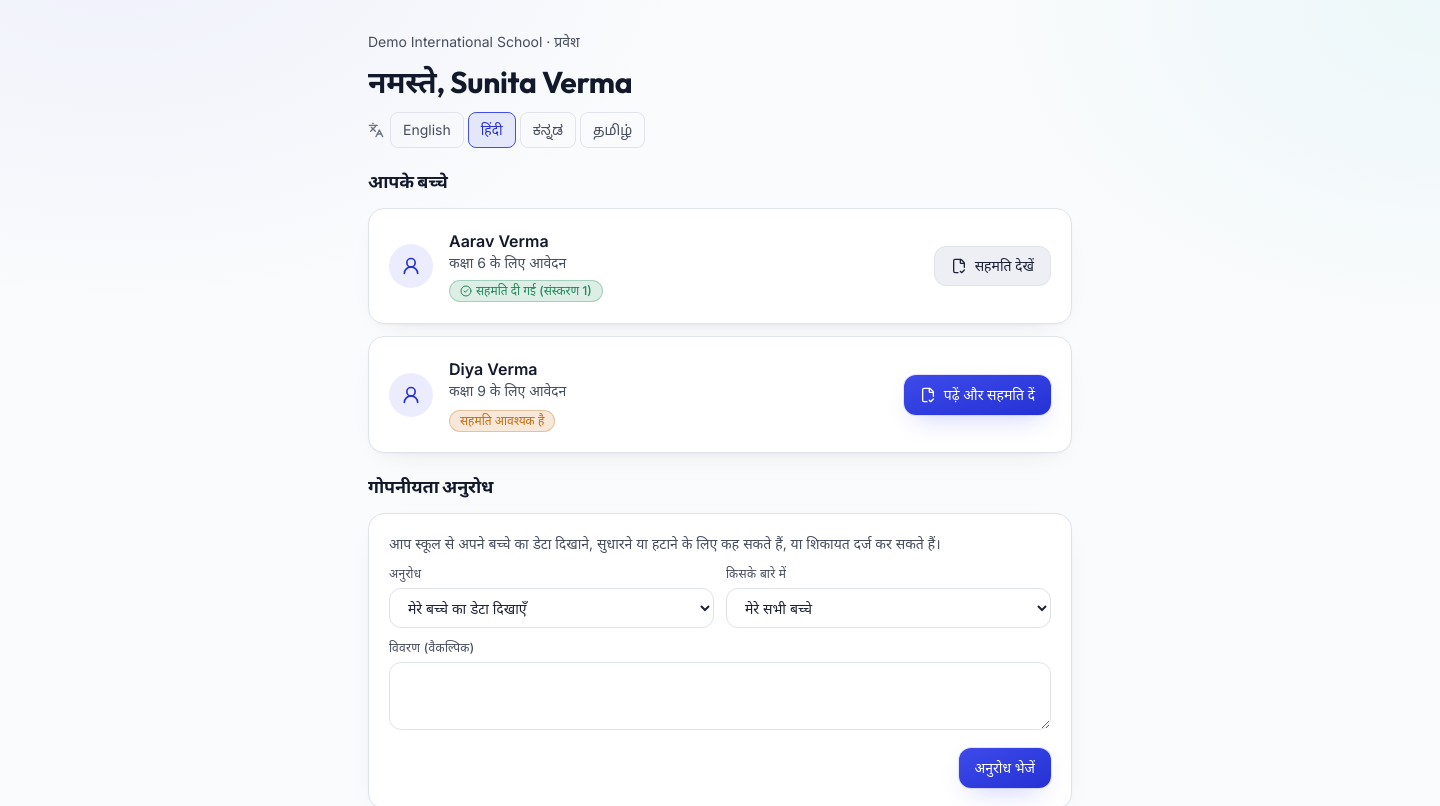
it: ParentPortal › records consent only after the parent ticks the confirmation
This screenshot has width=1440, height=806.
Click the button "पढ़ें और सहमति दें". click: coordinates (977, 394)
box: x1=904 y1=374 x2=1051 y2=414
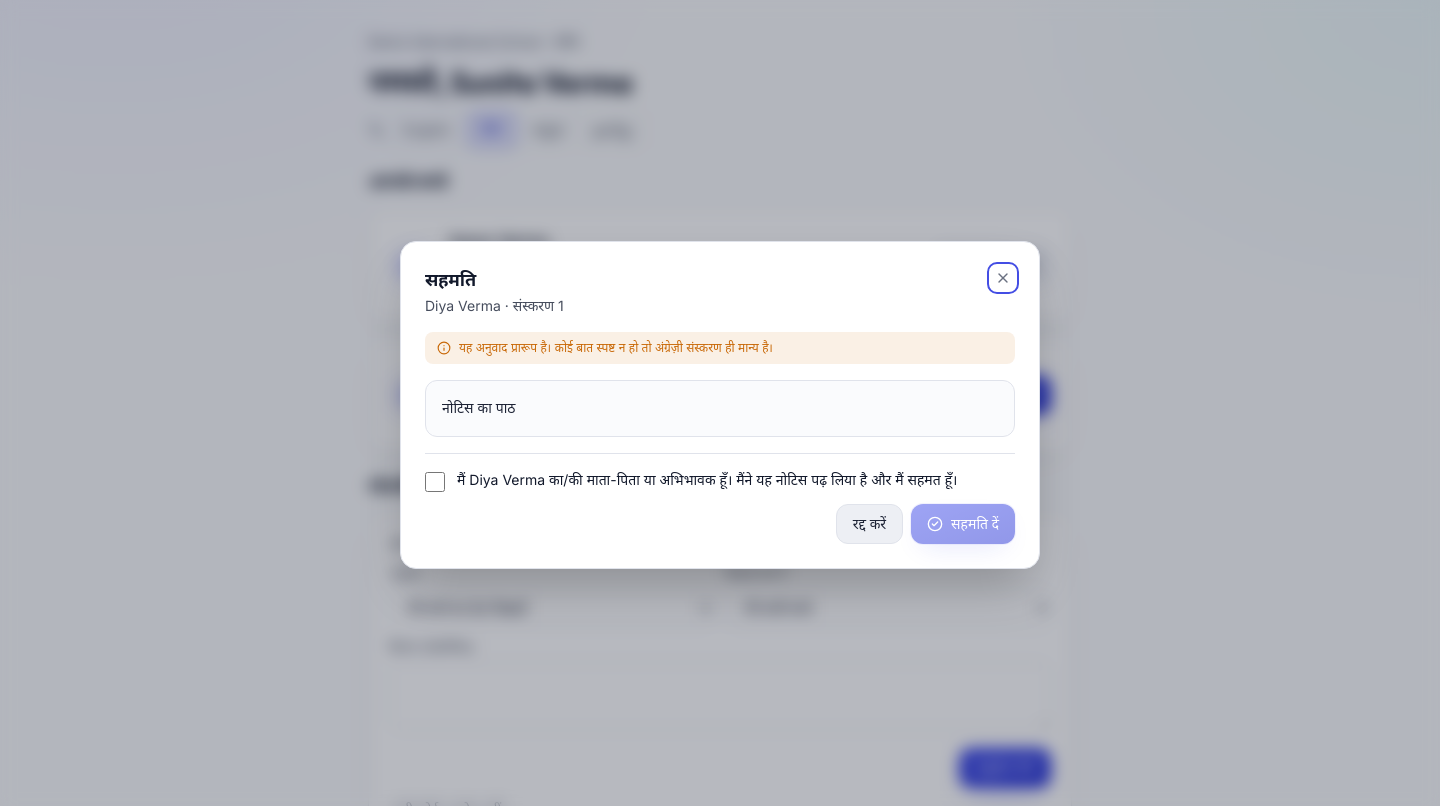
Expected: the text "नोटिस का पाठ" is shown, x1=425 y1=380 x2=1015 y2=437
Expected: the text "यह अनुवाद प्रारूप है" is shown, x1=459 y1=340 x2=773 y2=355
Expected: the button "सहमति दें" is disabled, x1=911 y1=504 x2=1015 y2=544
Click the checkbox. click: coordinates (435, 482)
box: x1=425 y1=472 x2=445 y2=492
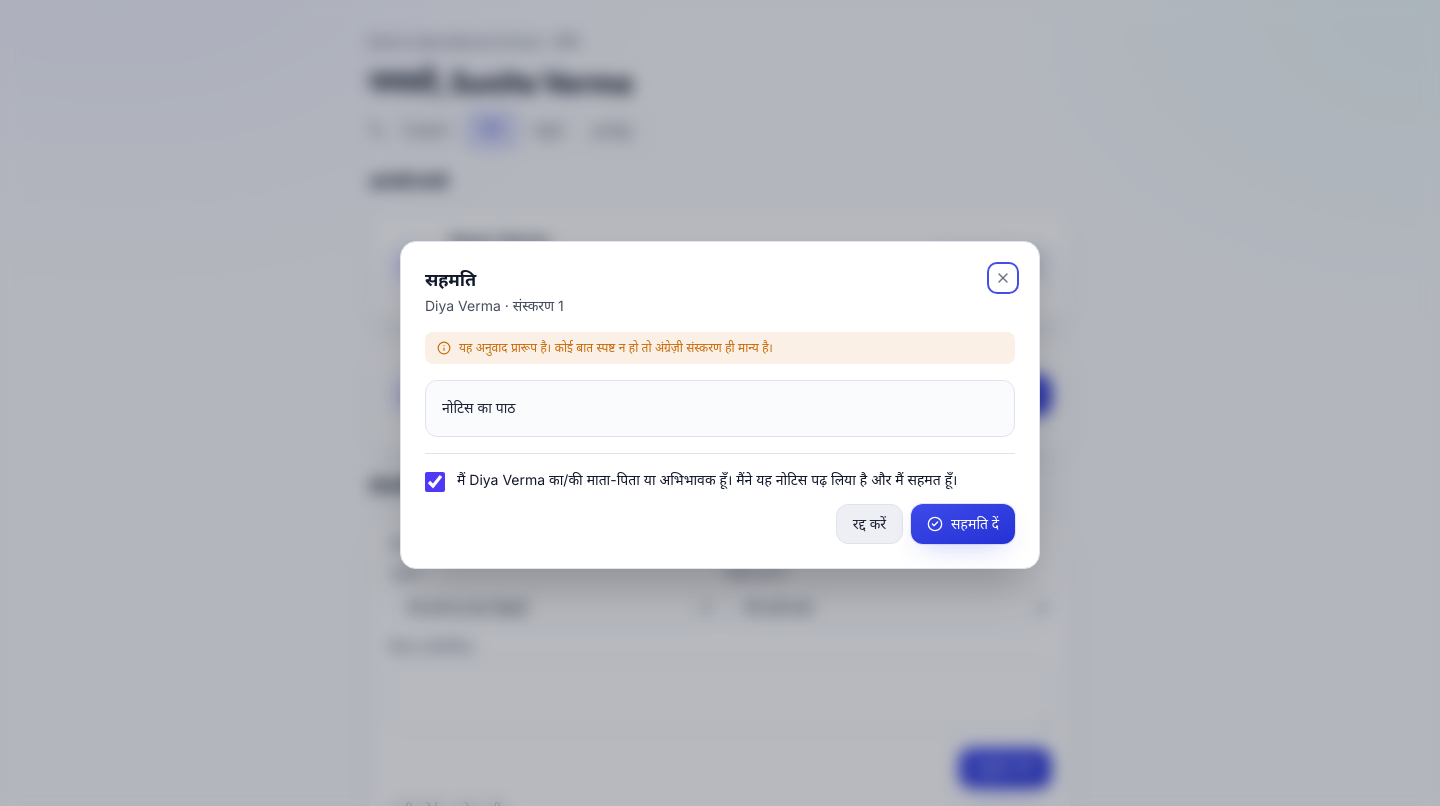
Click the button "सहमति दें". click: coordinates (963, 524)
box: x1=911 y1=504 x2=1015 y2=544
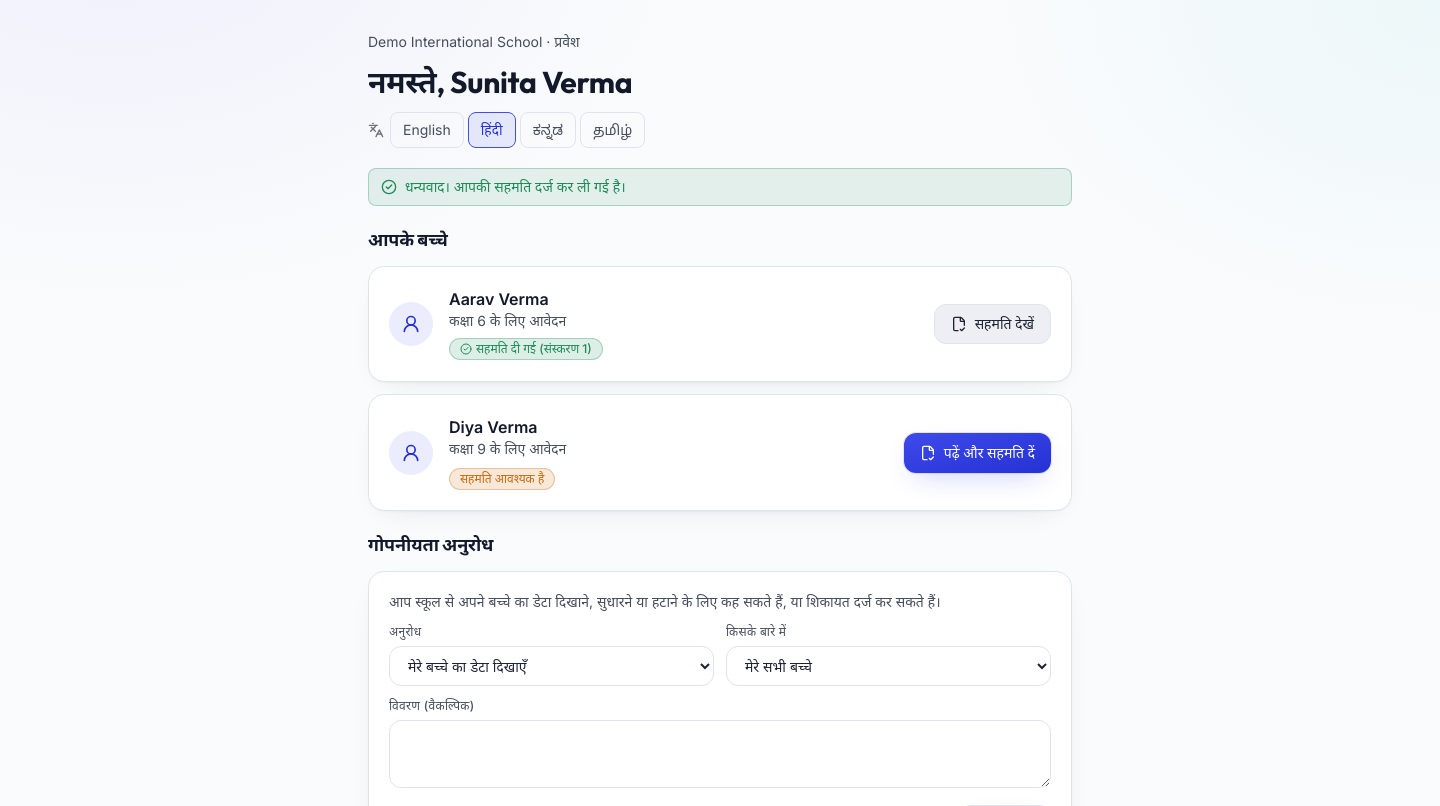
Expected: the text "धन्यवाद। आपकी सहमति दर्ज कर ली गई है।" is shown, x1=368 y1=168 x2=1072 y2=206
